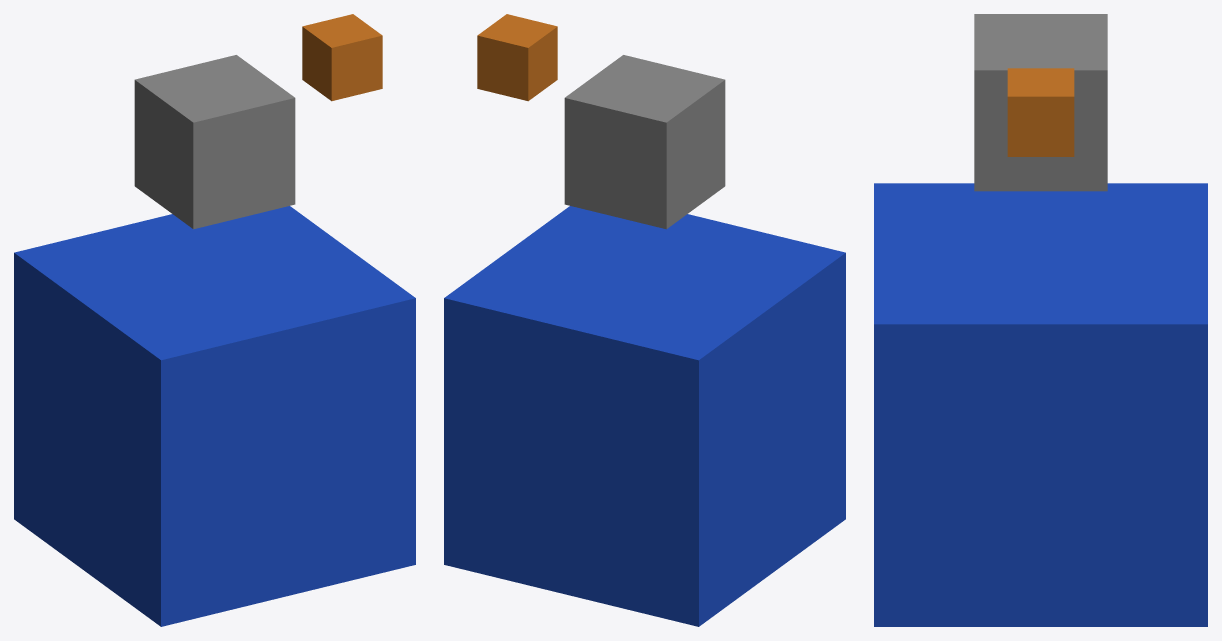
File: blender-nested-scene.glb
3 views of the same model, side by side, from view 1: azimuth 30°, elevation 25°; view 2: azimuth 150°, elevation 25°; view 3: azimuth 270°, elevation 25° (orthographic). The views are drawn at different scales.
Parts seen in each view (by area): view 1: rig/body, arm/body, tip/body; view 2: rig/body, arm/body, tip/body; view 3: rig/body, arm/body, tip/body.
Part boxes in pixels (x1,y1,x2,y2): rig/body: [14, 206, 415, 626]; arm/body: [134, 55, 295, 229]; tip/body: [302, 14, 382, 101]; rig/body: [444, 206, 845, 626]; arm/body: [564, 55, 725, 229]; tip/body: [477, 14, 557, 101]; rig/body: [874, 183, 1207, 626]; arm/body: [974, 14, 1107, 191]; tip/body: [1007, 68, 1074, 156].
Bounding box in the file's own units: 1.1 × 1.8 × 1.
